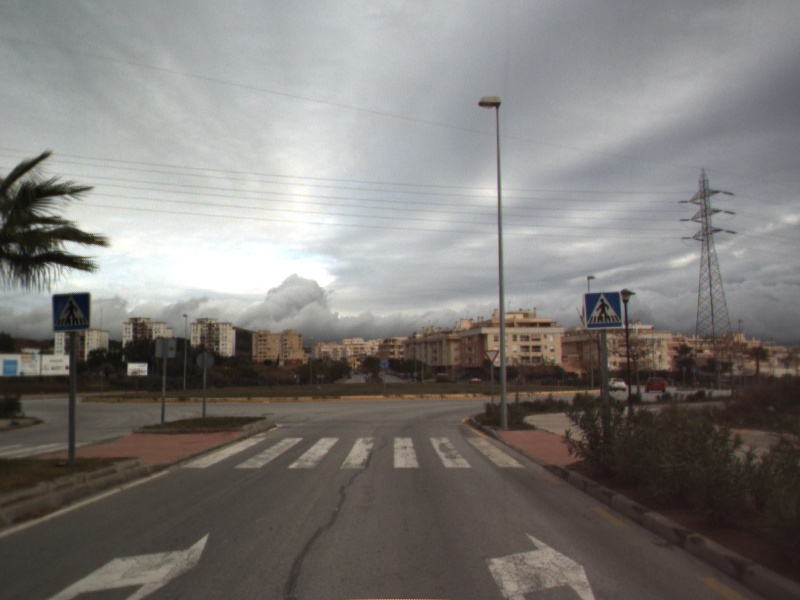RIGHT: (41, 530, 213, 600), (482, 530, 598, 600)
